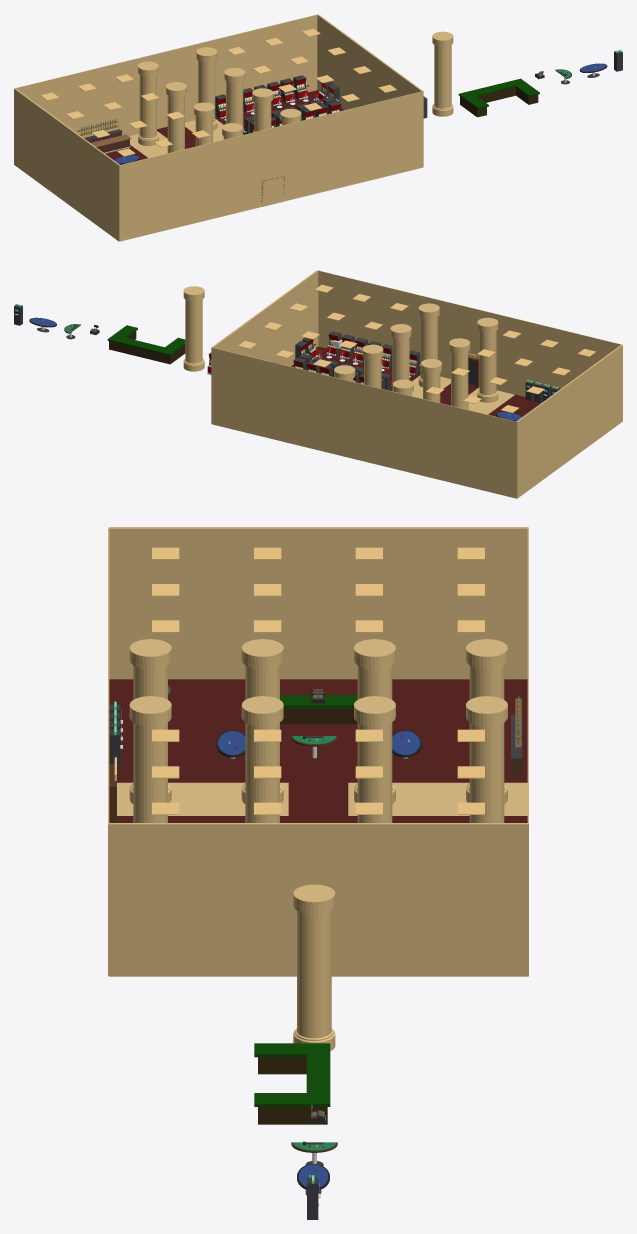
The model's file is casino_map.fbx.
3 views of the same model, one above another, from view 1: azimuth 30°, elevation 25°; view 2: azimuth 150°, elevation 25°; view 3: azimuth 270°, elevation 25° (orthographic). The views are drawn at different scales.
Parts seen in each view (by area): view 1: room, Cylinder.002, Ceiling_Panels, slot_machine.001, Cylinder.001, Cube, Bar, Cube.003, slot_machine.002, slot_machine.004; view 2: room, Cylinder.002, Ceiling_Panels, slot_machine.002, Cylinder.001, Cube, Cube.003, ATM, slot_machine.001, Entrance, slot_machine.004; view 3: room, Cube.003, Cylinder.002, Ceiling_Panels, Cylinder.001, Cube, Cube.004.
Boxes of the visible parts, x1,y1,x2,y2 form: room: [14, 14, 423, 241]; Cylinder.002: [138, 47, 301, 153]; Ceiling_Panels: [40, 28, 396, 156]; slot_machine.001: [215, 75, 341, 133]; Cylinder.001: [432, 31, 453, 116]; Cube: [458, 78, 539, 117]; Bar: [77, 119, 131, 153]; Cube.003: [105, 90, 344, 164]; slot_machine.002: [243, 97, 335, 134]; slot_machine.004: [317, 81, 362, 107]; room: [211, 270, 622, 498]; Cylinder.002: [334, 303, 498, 409]; Ceiling_Panels: [238, 284, 595, 412]; slot_machine.002: [293, 331, 420, 389]; Cylinder.001: [183, 286, 204, 371]; Cube: [107, 325, 185, 364]; Cube.003: [291, 346, 542, 416]; ATM: [525, 380, 560, 403]; slot_machine.001: [299, 353, 392, 391]; Entrance: [468, 353, 479, 387]; slot_machine.004: [273, 337, 317, 363]; room: [108, 527, 528, 976]; Cube.003: [109, 679, 527, 822]; Cylinder.002: [129, 639, 507, 822]; Ceiling_Panels: [152, 547, 484, 814]; Cylinder.001: [293, 884, 335, 1051]; Cube: [254, 1043, 330, 1124]; Cube.004: [280, 695, 357, 724].
Size of the model in its own units: 18257 by 2410 by 6015.
